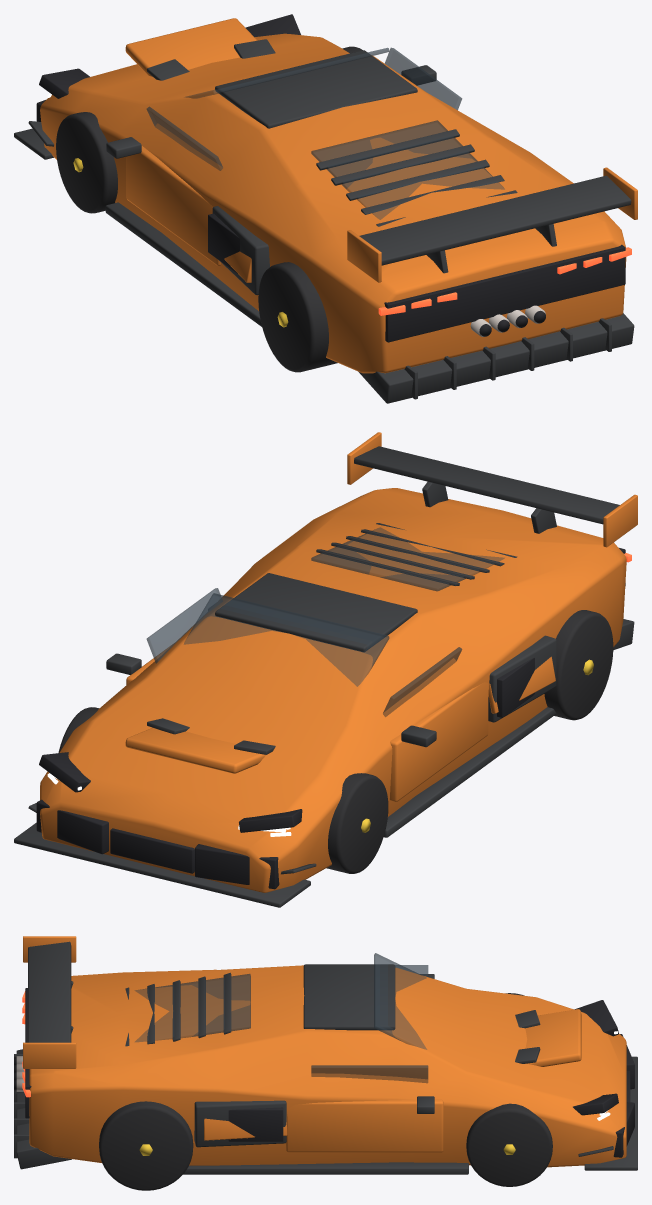
Rendered from vortex-v12.glb.
3 views of the same model, one above another, from view 1: azimuth 30°, elevation 25°; view 2: azimuth 150°, elevation 25°; view 3: azimuth 270°, elevation 25° (orthographic). The views are drawn at different scales.
Parts seen in each view (by area): view 1: Vortex_Body_Shell, Rear_Grille_Mesh, Rear_Wing_Blade, Roof_Carbon_Panel, Engine_Deck_Glass, Rear_Diffuser_Base, Tire_RL, Door_Panel_-1, Tire_FL, Hood_Power_Dome, Side_Skirt_-1, Side_Scoop_Housing_-1 (+16 smaller); view 2: Vortex_Body_Shell, Roof_Carbon_Panel, Rear_Wing_Blade, Windshield_Glass, Door_Panel_-1, Tire_RL, Engine_Deck_Glass, Tire_FL, Front_Splitter, Hood_Power_Dome, Side_Skirt_-1, Center_Intake (+13 smaller); view 3: Vortex_Body_Shell, Door_Panel_+1, Tire_RR, Roof_Carbon_Panel, Tire_FR, Rear_Wing_Blade, Engine_Deck_Glass, Side_Skirt_+1, Hood_Power_Dome, Windshield_Glass, Side_Scoop_Housing_+1, Door_Glass_+1 (+13 smaller).
Part boxes in pixels (left/top/right/bottom): Vortex_Body_Shell: left=40, top=33, right=626, bottom=373; Rear_Grille_Mesh: left=384, top=244, right=625, bottom=342; Rear_Wing_Blade: left=359, top=175, right=631, bottom=265; Roof_Carbon_Panel: left=215, top=50, right=417, bottom=128; Engine_Deck_Glass: left=311, top=120, right=504, bottom=219; Rear_Diffuser_Base: left=358, top=313, right=634, bottom=403; Tire_RL: left=258, top=262, right=337, bottom=372; Door_Panel_-1: left=126, top=145, right=220, bottom=265; Tire_FL: left=56, top=112, right=117, bottom=213; Hood_Power_Dome: left=125, top=18, right=257, bottom=76; Side_Skirt_-1: left=105, top=202, right=261, bottom=326; Side_Scoop_Housing_-1: left=212, top=206, right=269, bottom=295; Vortex_Body_Shell: left=40, top=488, right=626, bottom=892; Roof_Carbon_Panel: left=215, top=573, right=417, bottom=652; Rear_Wing_Blade: left=354, top=446, right=619, bottom=524; Windshield_Glass: left=184, top=593, right=389, bottom=686; Door_Panel_-1: left=390, top=682, right=488, bottom=801; Tire_RL: left=544, top=610, right=613, bottom=720; Engine_Deck_Glass: left=311, top=527, right=504, bottom=591; Tire_FL: left=326, top=773, right=388, bottom=873; Front_Splitter: left=14, top=822, right=310, bottom=907; Hood_Power_Dome: left=125, top=727, right=265, bottom=773; Side_Skirt_-1: left=383, top=707, right=556, bottom=837; Center_Intake: left=110, top=828, right=194, bottom=873; Vortex_Body_Shell: left=29, top=965, right=626, bottom=1167; Door_Panel_+1: left=286, top=1099, right=443, bottom=1152; Tire_RR: left=99, top=1101, right=193, bottom=1190; Roof_Carbon_Panel: left=303, top=964, right=395, bottom=1030; Tire_FR: left=466, top=1103, right=552, bottom=1186; Rear_Wing_Blade: left=28, top=941, right=71, bottom=1042; Engine_Deck_Glass: left=135, top=973, right=250, bottom=1041; Side_Skirt_+1: left=183, top=1162, right=468, bottom=1174; Hood_Power_Dome: left=525, top=1009, right=581, bottom=1066; Windshield_Glass: left=374, top=953, right=426, bottom=1049; Side_Scoop_Housing_+1: left=194, top=1100, right=286, bottom=1147; Door_Glass_+1: left=311, top=1065, right=428, bottom=1082.
Bounding box in the file's own units: 2.48 × 1.22 × 4.91.
